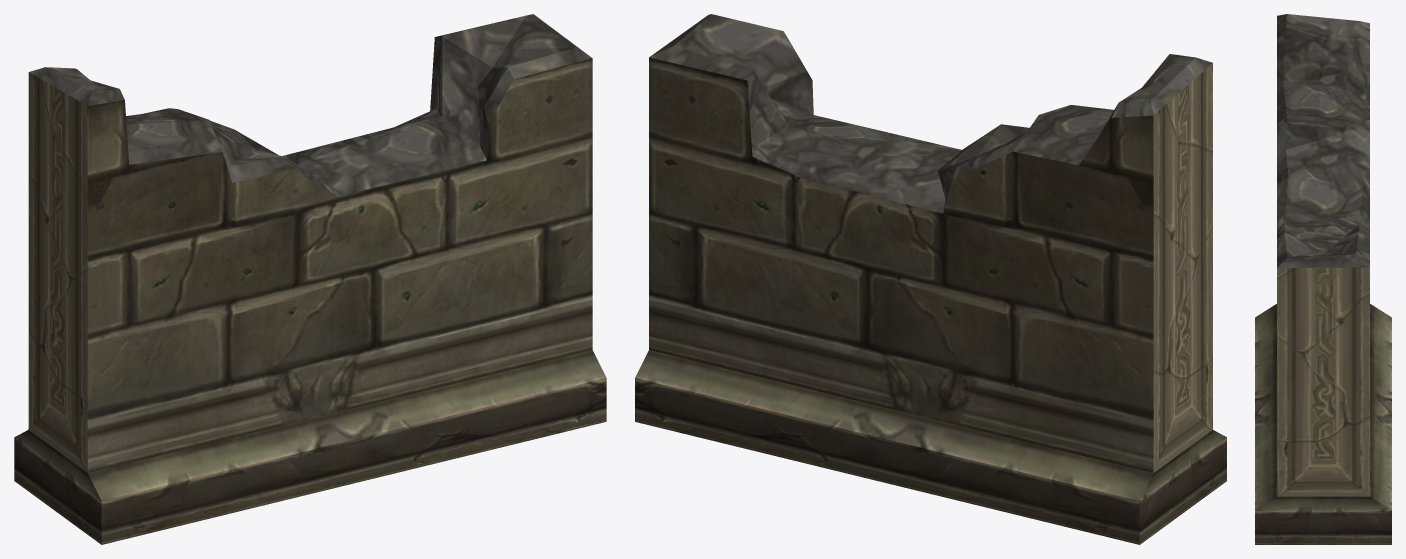
Rendered from F_neiqiang023.fbx.
3 renders of one model, left to right at view 1: azimuth 30°, elevation 25°; view 2: azimuth 150°, elevation 25°; view 3: azimuth 270°, elevation 25°, orthographic. The views are drawn at different scales.
Visible parts, largest first — view 1: F_neiqiang023; view 2: F_neiqiang023; view 3: F_neiqiang023.
Part boxes in pixels (bbox=[...]): F_neiqiang023: bbox=[14, 14, 606, 544]; F_neiqiang023: bbox=[635, 14, 1226, 544]; F_neiqiang023: bbox=[1255, 14, 1391, 544].
Size of the model in its own units: 303 by 250 by 90.69.
